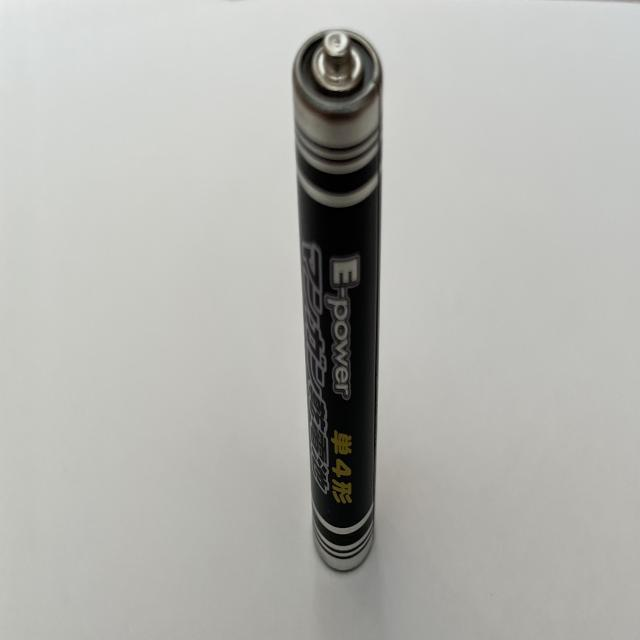hazardous waste: (288, 27, 386, 574)
